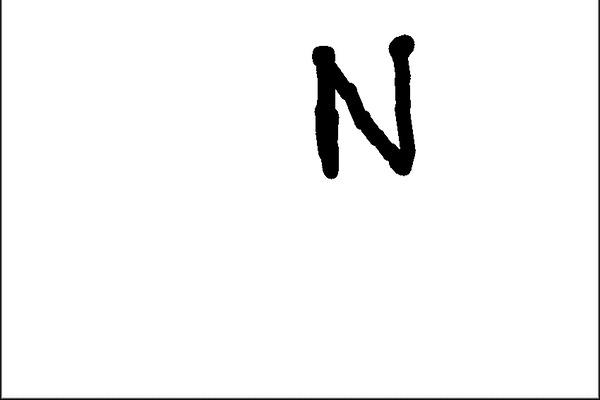N: (302, 29, 423, 186)
